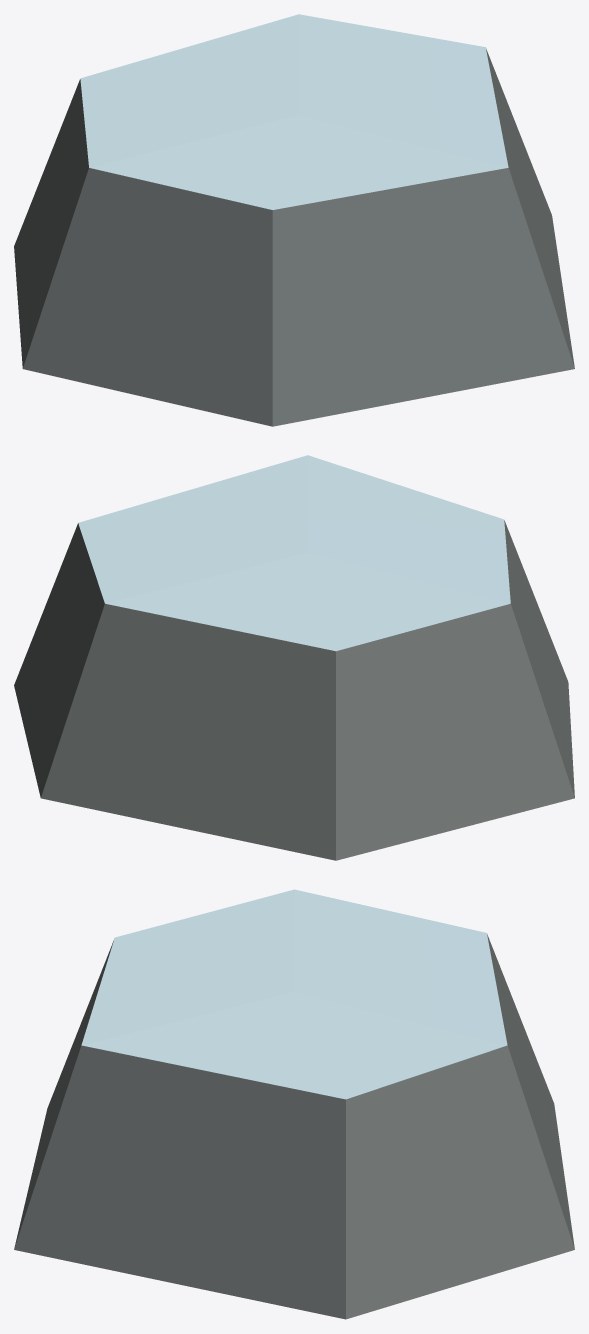
The model's file is SM_Env_Generic_Rock_06_Snow.glb.
3 renders of one model, top to bottom at view 1: azimuth 30°, elevation 25°; view 2: azimuth 150°, elevation 25°; view 3: azimuth 270°, elevation 25°, orthographic. The views are drawn at different scales.
Parts seen in each view (by area): view 1: SM_Env_Generic_Rock_06_Snow; view 2: SM_Env_Generic_Rock_06_Snow; view 3: SM_Env_Generic_Rock_06_Snow.
Boxes of the visible parts, bbox=[...] form: SM_Env_Generic_Rock_06_Snow: bbox=[14, 14, 574, 426]; SM_Env_Generic_Rock_06_Snow: bbox=[14, 455, 574, 860]; SM_Env_Generic_Rock_06_Snow: bbox=[14, 889, 574, 1319].
Size of the model in its own units: 0.3256 by 0.1423 by 0.2808.
1 material, 1 textured.
